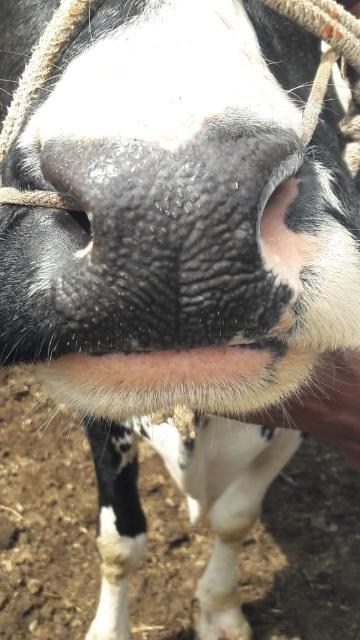Muzzle: (76, 152, 274, 344)
